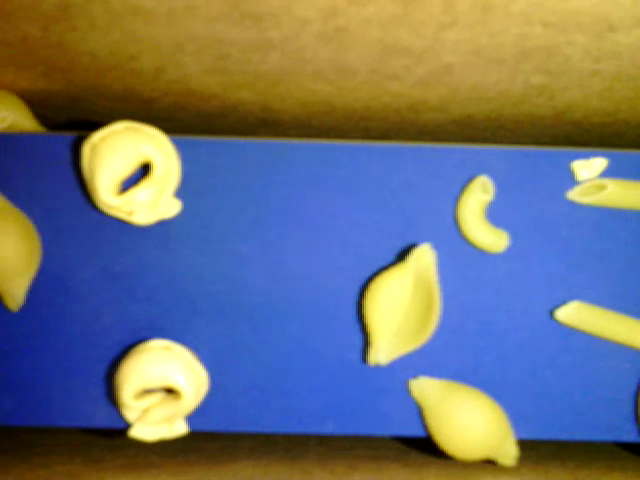elbow: (453, 172, 510, 255)
penne: (548, 298, 639, 349), (564, 176, 639, 208)
shell: (354, 239, 443, 369), (406, 374, 520, 471), (1, 189, 45, 317), (1, 89, 50, 138)
tortellini: (76, 117, 184, 227), (110, 335, 211, 443)
